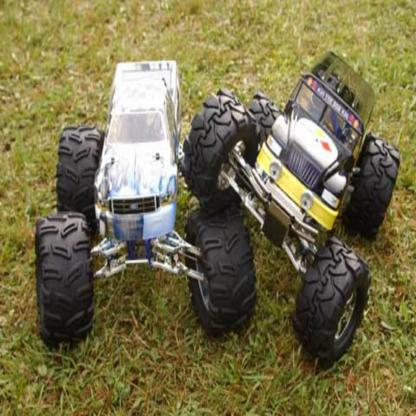Car: (178, 50, 397, 365), (35, 60, 257, 352)
